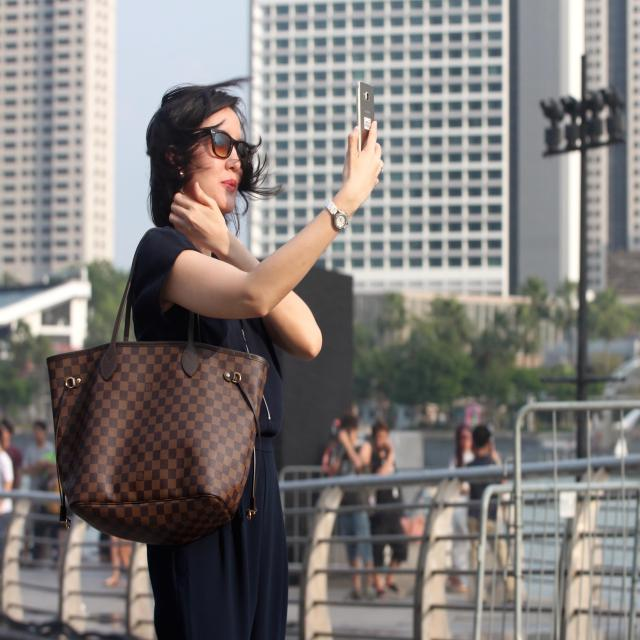Mobile: (349, 68, 381, 204)
